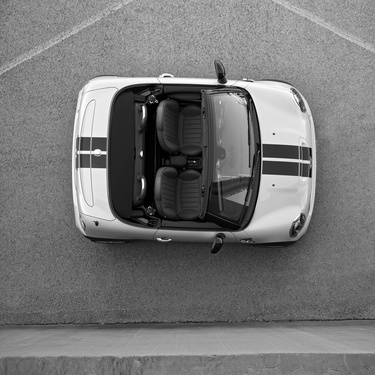car: (66, 58, 319, 252)
